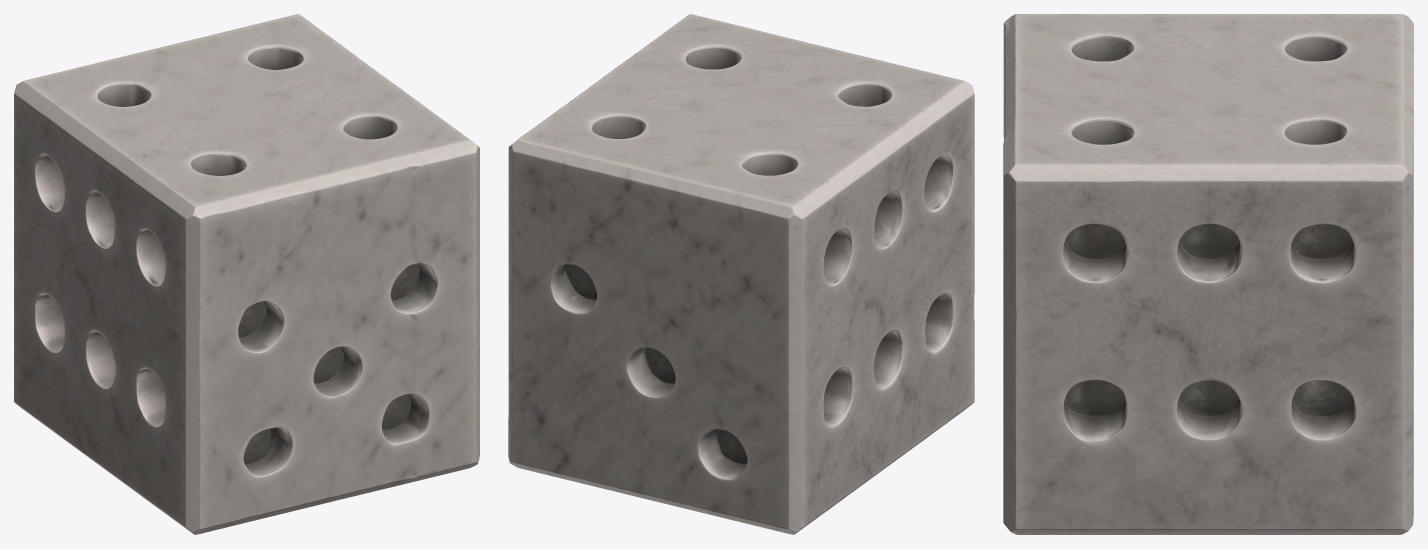
File: Dice.glb
3 renders of one model, left to right at view 1: azimuth 30°, elevation 25°; view 2: azimuth 150°, elevation 25°; view 3: azimuth 270°, elevation 25°, orthographic. The views are drawn at different scales.
Bounding box in the file's own units: 1.78 × 1.9 × 1.91.
Materials: 1 (1 with a texture image).
